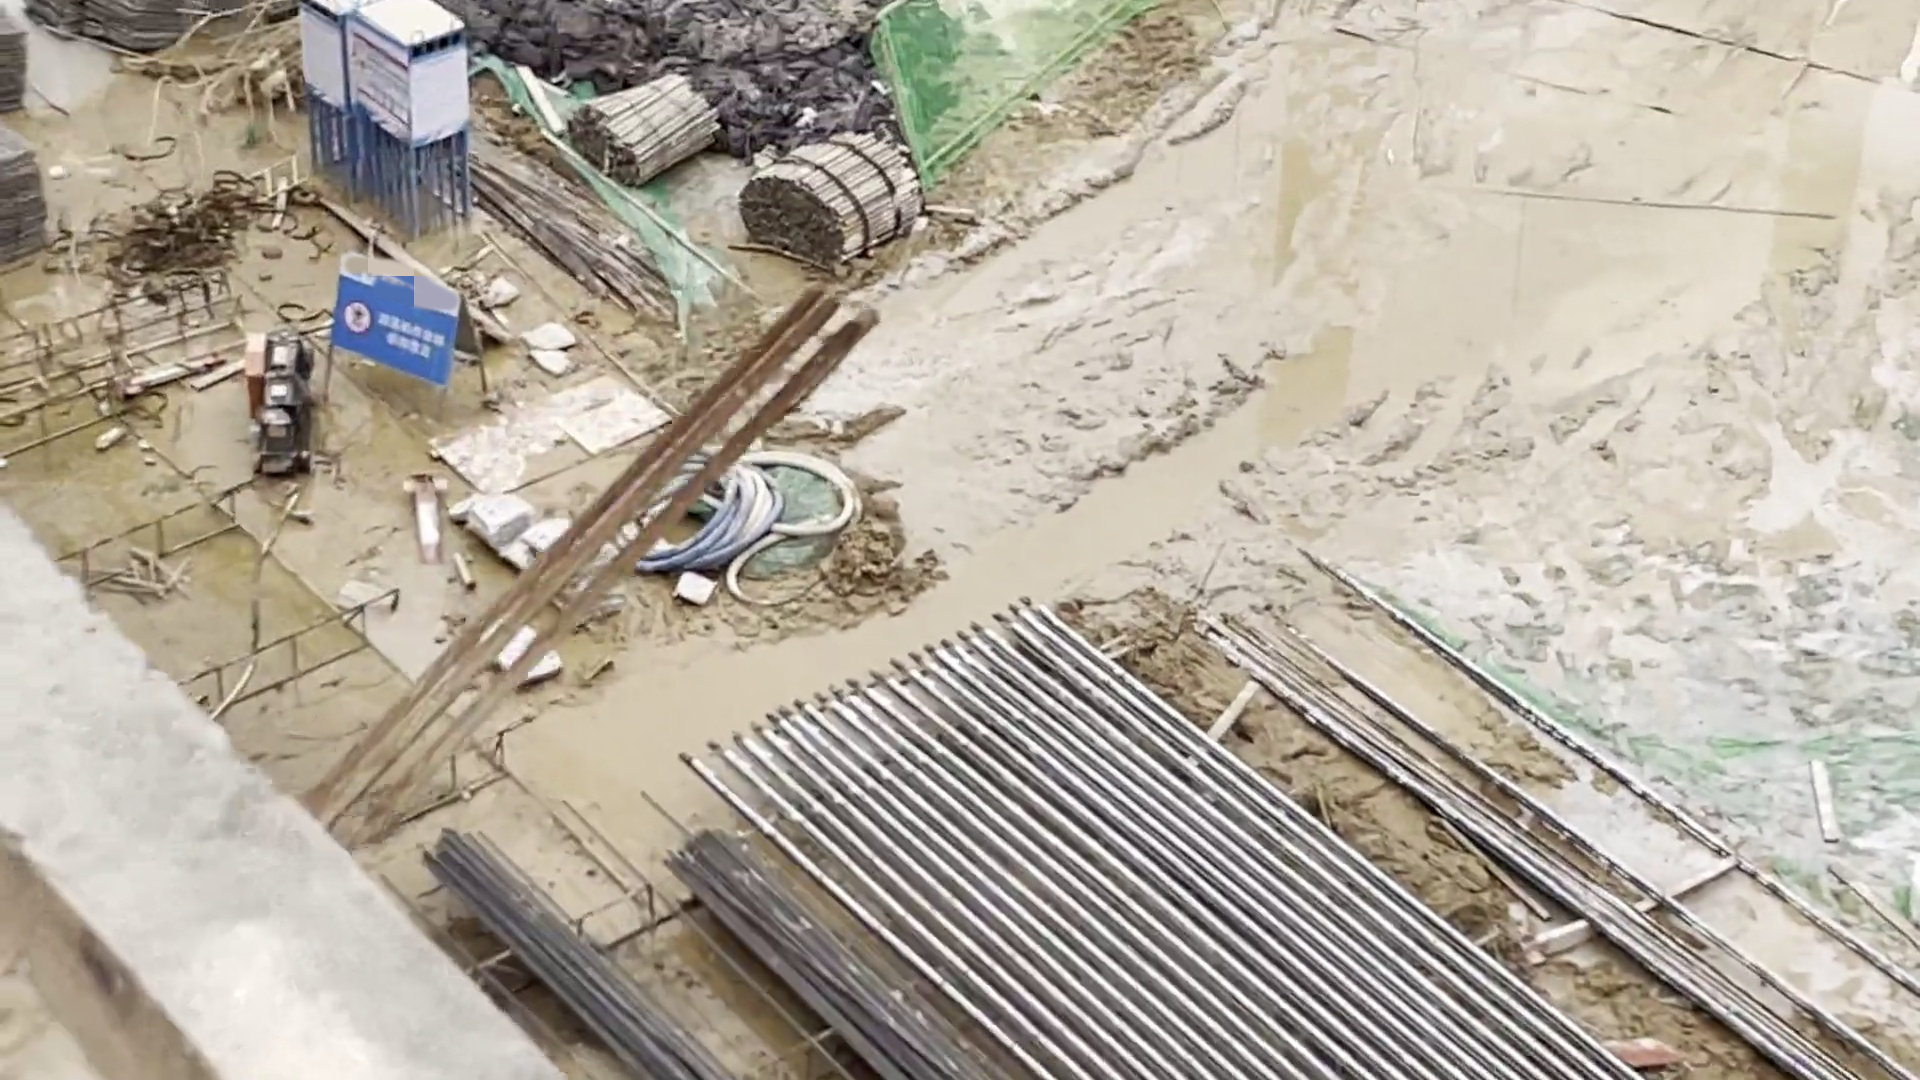rebar: (419, 811, 955, 1080)
slogan: (324, 266, 462, 371)
